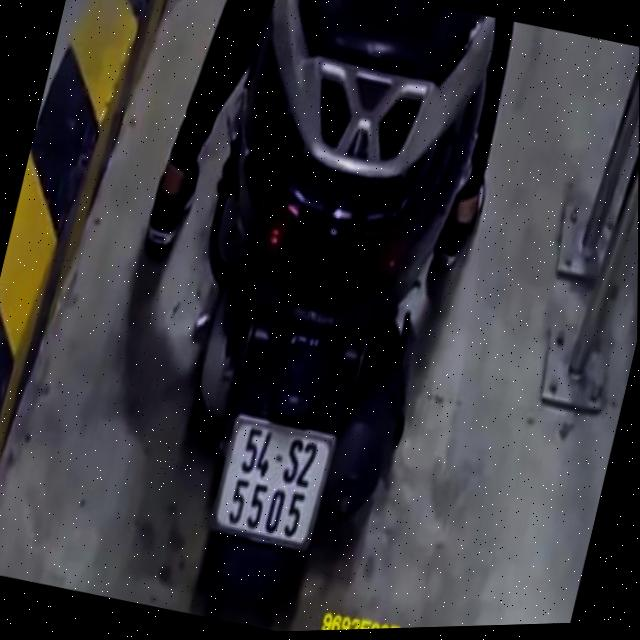motorcycle: (107, 0, 519, 637)
plate: (203, 406, 339, 553)
